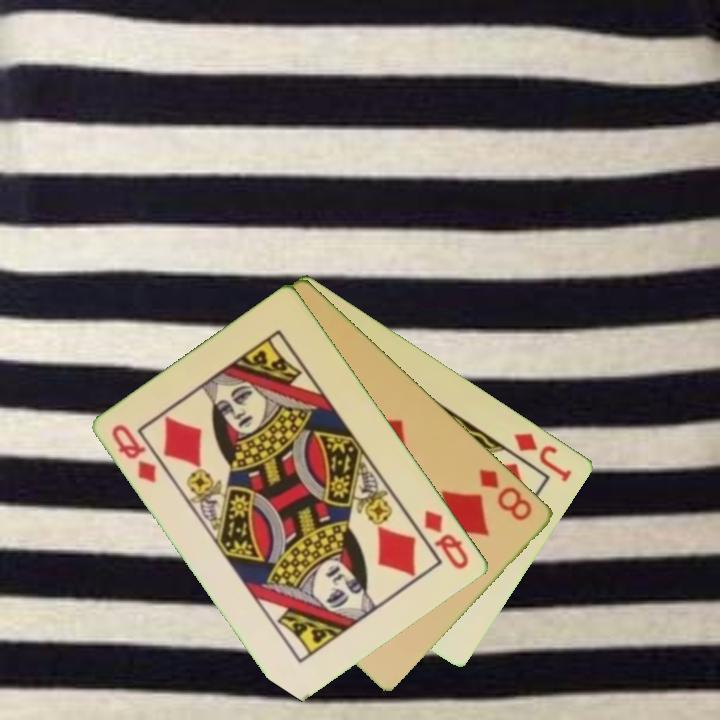8d: (476, 465, 536, 524)
Jd: (511, 429, 576, 485)
Qd: (421, 506, 473, 573), (108, 421, 160, 487)
